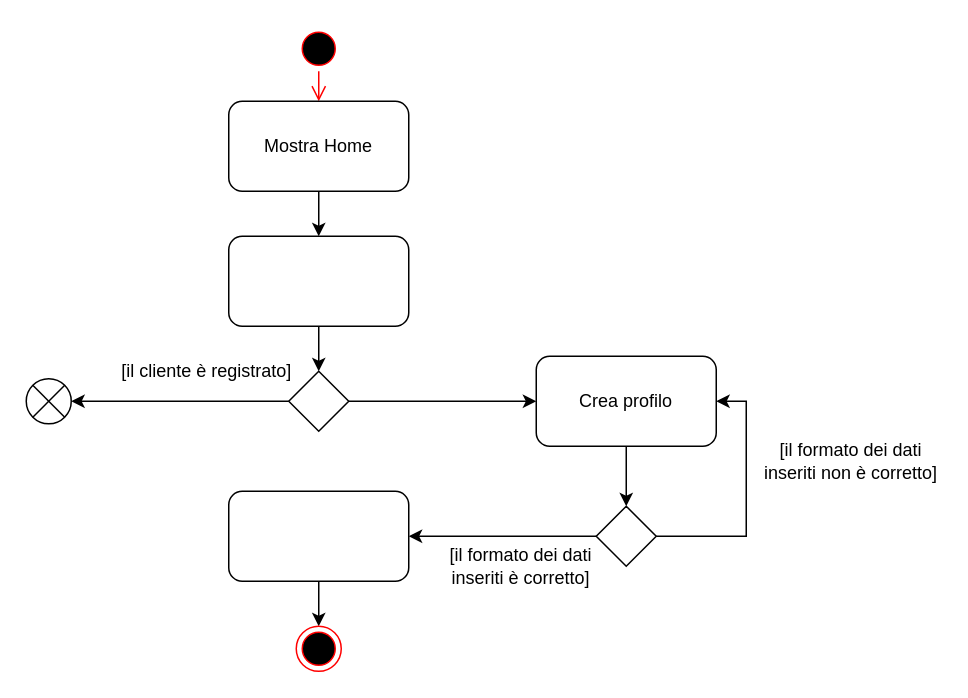
Some shapes in this 968 by 698 pixel diagram are drawn without their labels. Each missing label, with the centre of its shape:
Memorizza Profilo: [318,535]
Mostra Registrati: [318,280]
